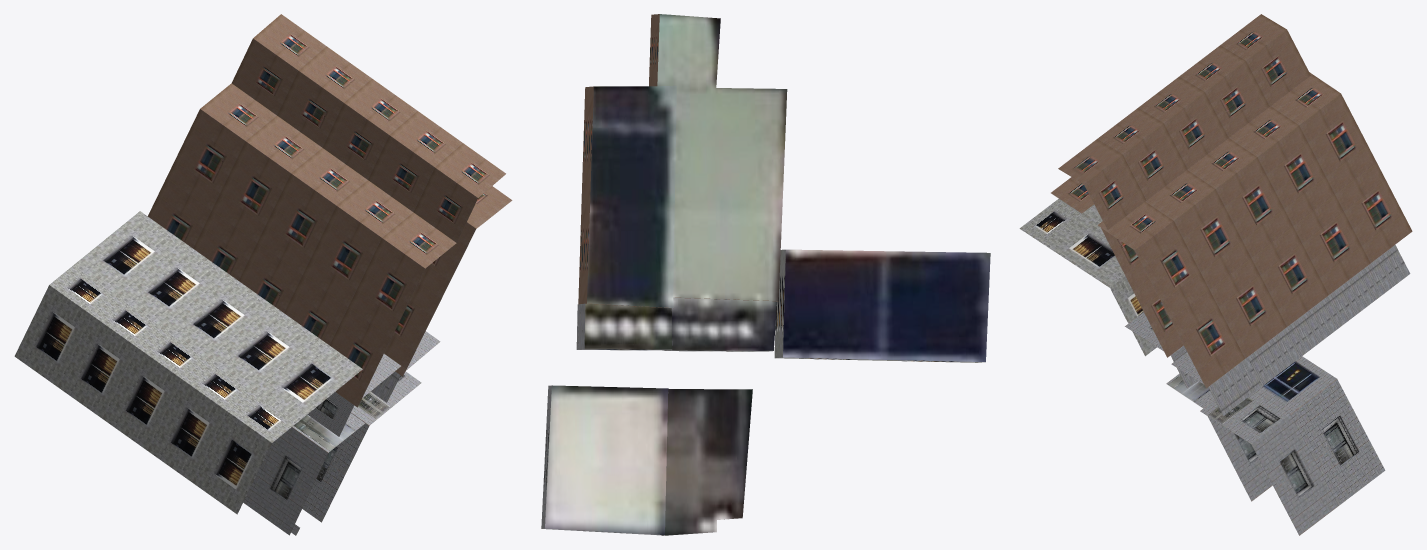
3 views of the same model, side by side, from view 1: azimuth 30°, elevation 25°; view 2: azimuth 150°, elevation 25°; view 3: azimuth 270°, elevation 25° (orthographic). The views are drawn at different scales.
Size of the model in its own units: 30.37 by 33.4 by 25.56.
Materials: 22 (22 with a texture image).
